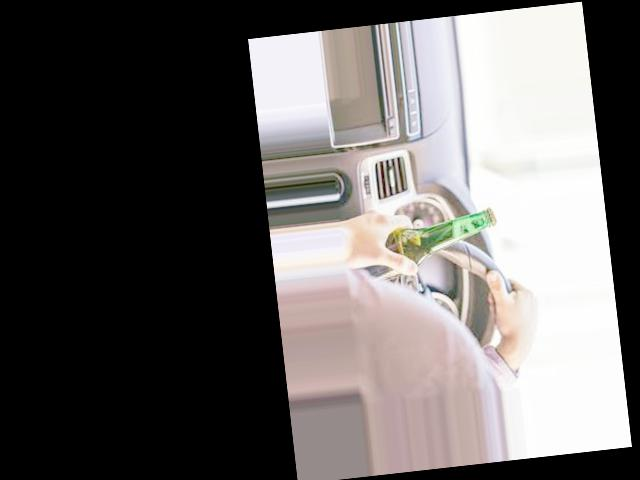beer: (345, 206, 502, 287)
